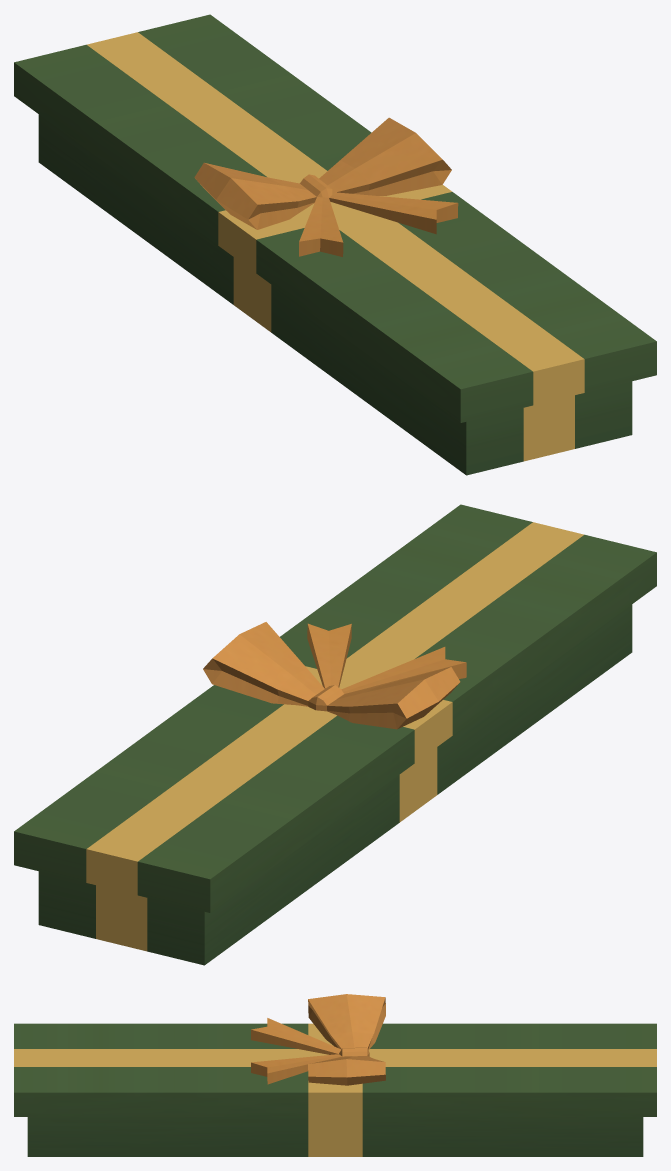
File: gift_box_B_Long.obj
The picture shows the model from 3 angles, top to bottom: view 1: azimuth 30°, elevation 25°; view 2: azimuth 150°, elevation 25°; view 3: azimuth 270°, elevation 25°; orthographic projection. The views are drawn at different scales.
Visible parts, largest first — view 1: gift_box_B_Long; view 2: gift_box_B_Long; view 3: gift_box_B_Long.
Part boxes in pixels (x1,y1,x2,y2): gift_box_B_Long: [14, 14, 656, 475]; gift_box_B_Long: [14, 504, 656, 965]; gift_box_B_Long: [14, 994, 656, 1156].
Bounding box in the file's own units: 0.3032 × 0.1874 × 1.09.
